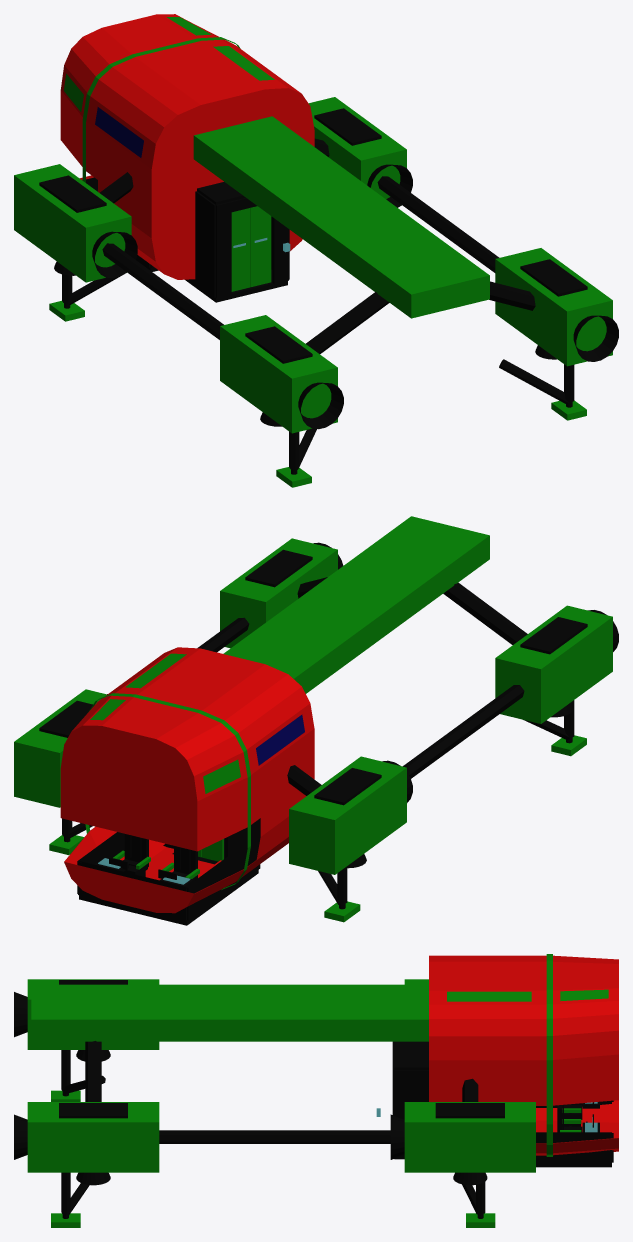
File: gantry.glb
3 views of the same model, one above another, from view 1: azimuth 30°, elevation 25°; view 2: azimuth 150°, elevation 25°; view 3: azimuth 270°, elevation 25° (orthographic). The views are drawn at different scales.
Parts seen in each view (by area): view 1: pioneer_gantry:cargo_frame, pioneer_gantry:pressure_hull_0, pioneer_gantry:room_eva, pioneer_gantry:inspection_panels_0, pioneer_gantry:door_eva-outer_1, pioneer_gantry:gear_mounts, pioneer_gantry:door_eva-outer_-1, pioneer_gantry:habitat_seams_1, pioneer_gantry:engine_3, pioneer_gantry:engine_1, pioneer_gantry:engine_0, pioneer_gantry:ceiling_eva; view 2: pioneer_gantry:cargo_frame, pioneer_gantry:pressure_hull_0, pioneer_gantry:room_bridge, pioneer_gantry:inspection_panels_0, pioneer_gantry:habitat_seams_1, pioneer_gantry:seat_1, pioneer_gantry:seat_0, pioneer_gantry:gear_mounts; view 3: pioneer_gantry:cargo_frame, pioneer_gantry:pressure_hull_0, pioneer_gantry:room_bridge, pioneer_gantry:room_eva, pioneer_gantry:inspection_panels_0, pioneer_gantry:habitat_seams_1, pioneer_gantry:ceiling_eva, pioneer_gantry:gear_mounts, pioneer_gantry:engine_2, pioneer_gantry:engine_1, pioneer_gantry:engine_3, pioneer_gantry:gear_1 (+4 smaller).
Boxes of the visible parts, <box> form: pioneer_gantry:cargo_frame: <box>14,97,612,469</box>; pioneer_gantry:pressure_hull_0: <box>60,14,314,279</box>; pioneer_gantry:room_eva: <box>185,191,289,302</box>; pioneer_gantry:inspection_panels_0: <box>64,17,274,157</box>; pioneer_gantry:door_eva-outer_1: <box>250,206,271,287</box>; pioneer_gantry:gear_mounts: <box>68,272,568,469</box>; pioneer_gantry:door_eva-outer_-1: <box>231,208,249,291</box>; pioneer_gantry:habitat_seams_1: <box>82,37,240,182</box>; pioneer_gantry:engine_3: <box>573,315,618,361</box>; pioneer_gantry:engine_1: <box>298,382,343,429</box>; pioneer_gantry:engine_0: <box>92,231,137,278</box>; pioneer_gantry:ceiling_eva: <box>197,182,245,204</box>; pioneer_gantry:cargo_frame: <box>14,516,612,904</box>; pioneer_gantry:pressure_hull_0: <box>60,647,314,913</box>; pioneer_gantry:room_bridge: <box>77,818,260,925</box>; pioneer_gantry:inspection_panels_0: <box>90,653,304,793</box>; pioneer_gantry:habitat_seams_1: <box>85,693,250,889</box>; pioneer_gantry:seat_1: <box>113,834,150,876</box>; pioneer_gantry:seat_0: <box>162,846,199,880</box>; pioneer_gantry:gear_mounts: <box>67,720,569,904</box>; pioneer_gantry:cargo_frame: <box>27,979,535,1214</box>; pioneer_gantry:pressure_hull_0: <box>429,955,618,1155</box>; pioneer_gantry:room_bridge: <box>536,1100,613,1167</box>; pioneer_gantry:room_eva: <box>392,1041,428,1159</box>; pioneer_gantry:inspection_panels_0: <box>447,989,608,1001</box>; pioneer_gantry:habitat_seams_1: <box>546,954,552,1156</box>; pioneer_gantry:ceiling_eva: <box>394,1041,428,1069</box>; pioneer_gantry:gear_mounts: <box>63,1075,477,1214</box>; pioneer_gantry:engine_2: <box>390,1114,404,1159</box>; pioneer_gantry:engine_1: <box>14,992,27,1037</box>; pioneer_gantry:engine_3: <box>14,1114,27,1159</box>; pioneer_gantry:gear_1: <box>466,1213,495,1227</box>.
Size of the model in its own units: 9.8 by 5.97 by 17.5.
